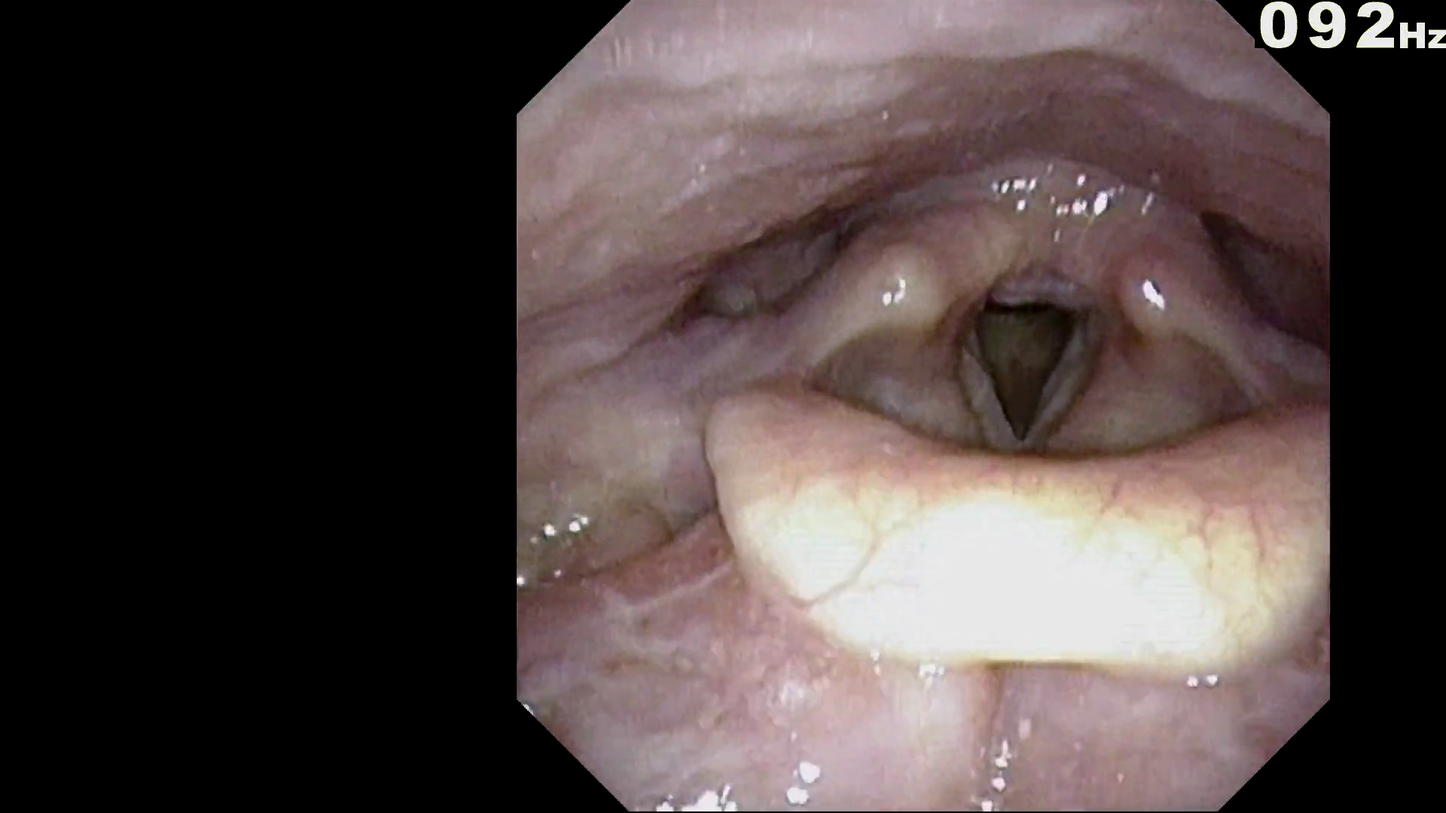epiglottis: (695, 382, 1316, 678)
trachea: (938, 269, 1118, 480)
